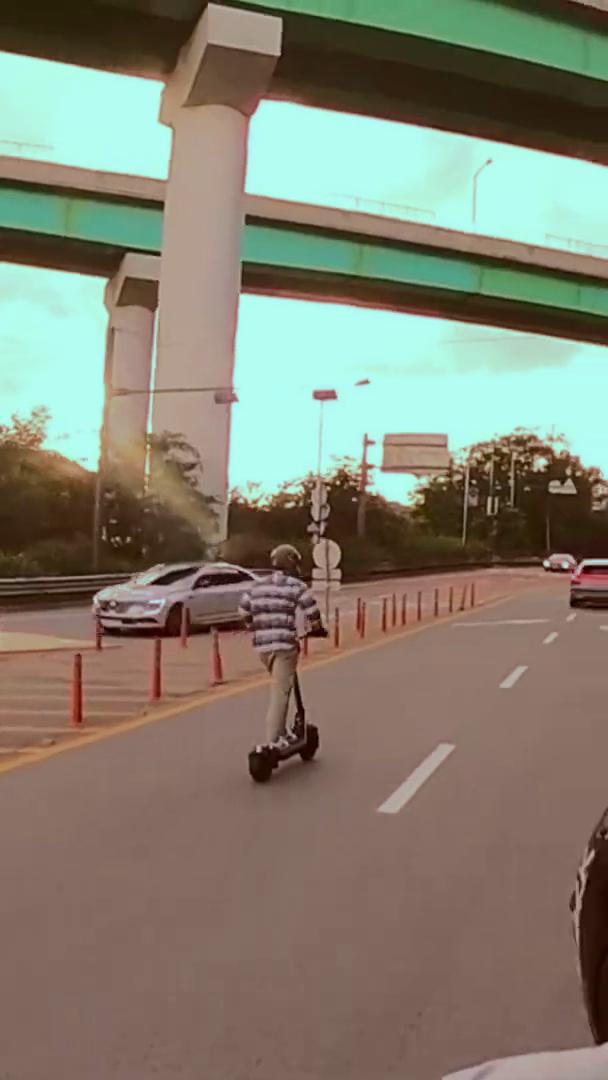helmet: (237, 540, 330, 786)
